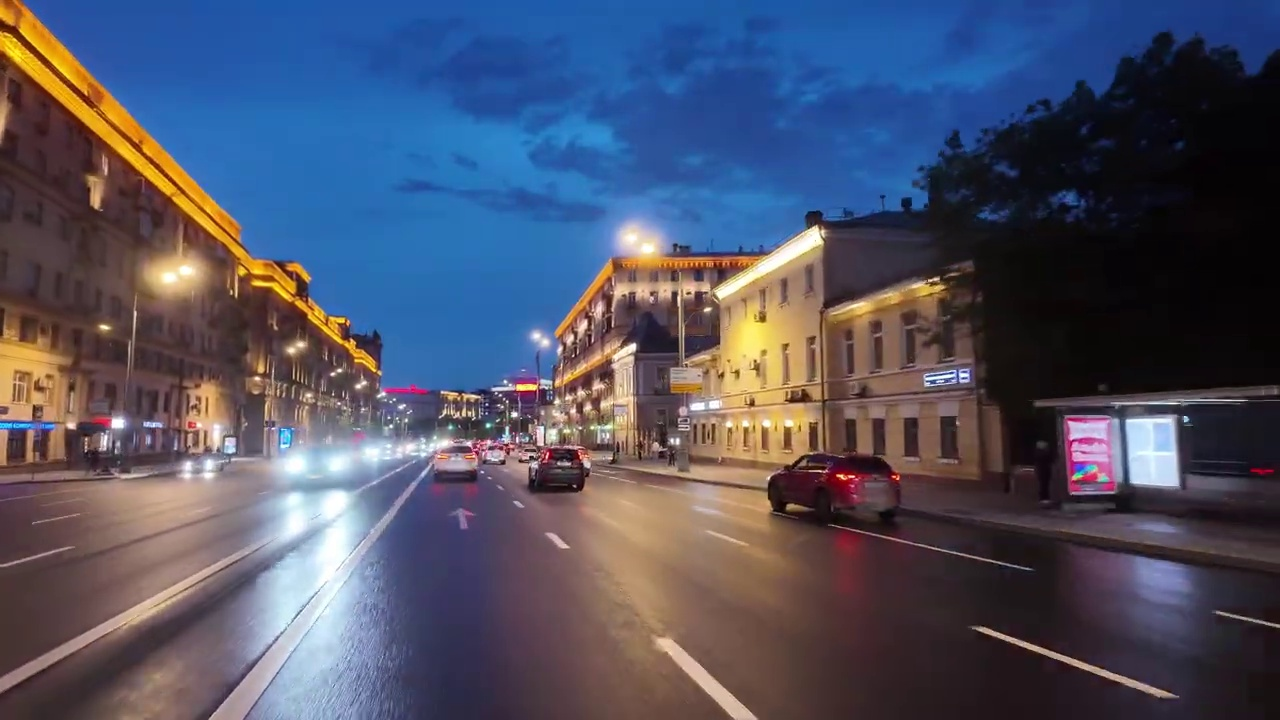acesa: (150, 257, 197, 296), (622, 227, 660, 264), (530, 329, 551, 349)
